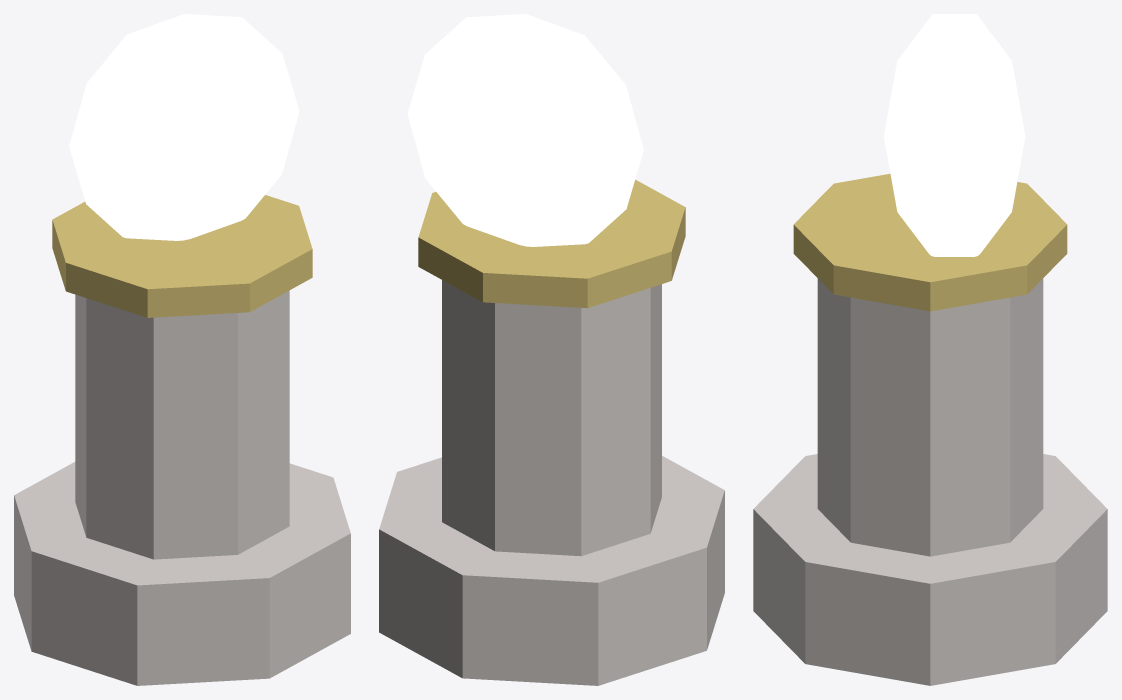
Rendered from Deco_MoonPedestal.fbx.
The picture shows the model from 3 angles, left to right: view 1: azimuth 30°, elevation 25°; view 2: azimuth 150°, elevation 25°; view 3: azimuth 270°, elevation 25°; orthographic projection. The views are drawn at different scales.
Parts seen in each view (by area): view 1: Deco_MoonPedestal_BaseMid, Deco_MoonPedestal_BaseLow, Deco_MoonPedestal_Moon, Deco_MoonPedestal_Cap; view 2: Deco_MoonPedestal_BaseMid, Deco_MoonPedestal_BaseLow, Deco_MoonPedestal_Moon, Deco_MoonPedestal_Cap; view 3: Deco_MoonPedestal_BaseMid, Deco_MoonPedestal_BaseLow, Deco_MoonPedestal_Moon, Deco_MoonPedestal_Cap.
Boxes of the visible parts, box(x1,y1,x2,y2) form: Deco_MoonPedestal_BaseMid: box(75, 290, 289, 559); Deco_MoonPedestal_BaseLow: box(14, 462, 350, 685); Deco_MoonPedestal_Moon: box(69, 14, 299, 240); Deco_MoonPedestal_Cap: box(52, 195, 312, 317); Deco_MoonPedestal_BaseMid: box(442, 280, 661, 556); Deco_MoonPedestal_BaseLow: box(379, 456, 724, 685); Deco_MoonPedestal_Moon: box(407, 14, 643, 246); Deco_MoonPedestal_Cap: box(418, 179, 685, 308); Deco_MoonPedestal_BaseMid: box(817, 278, 1043, 556); Deco_MoonPedestal_BaseLow: box(753, 454, 1107, 685); Deco_MoonPedestal_Moon: box(884, 14, 1025, 256); Deco_MoonPedestal_Cap: box(793, 173, 1067, 311).
Bounding box in the file's own units: 0.44 × 0.82 × 0.44.
